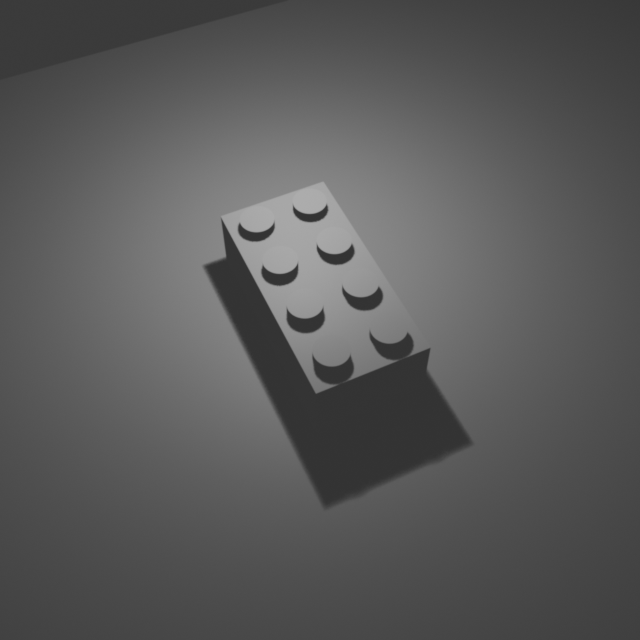lego_2x4: (220, 174, 432, 431)
